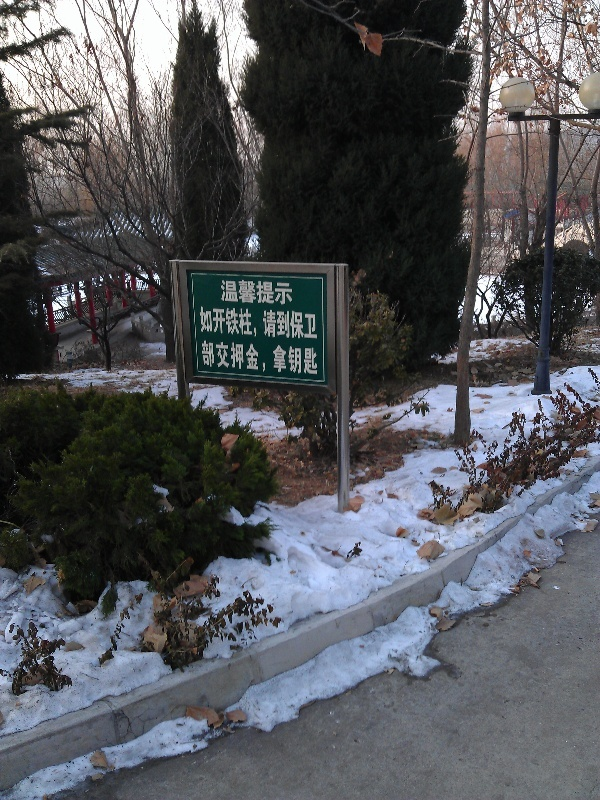text: (209, 339, 224, 377), (225, 339, 240, 377), (241, 339, 256, 377), (257, 339, 272, 377), (273, 339, 288, 377), (289, 339, 304, 377), (209, 305, 224, 341), (225, 305, 240, 341), (241, 305, 256, 341), (257, 305, 272, 341), (273, 305, 288, 341), (289, 305, 304, 341), (305, 339, 319, 377), (305, 305, 319, 341), (225, 279, 240, 306), (241, 279, 256, 306), (257, 279, 272, 306), (273, 279, 288, 306), (199, 305, 208, 341), (201, 339, 208, 377), (289, 279, 294, 306), (220, 279, 224, 306)
